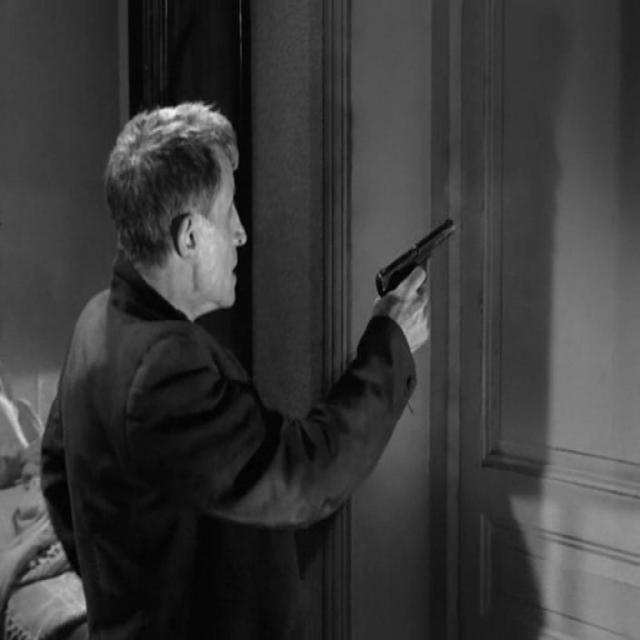gun-knife-thesis - v11 Yolov5 augmented: (362, 206, 469, 351)
